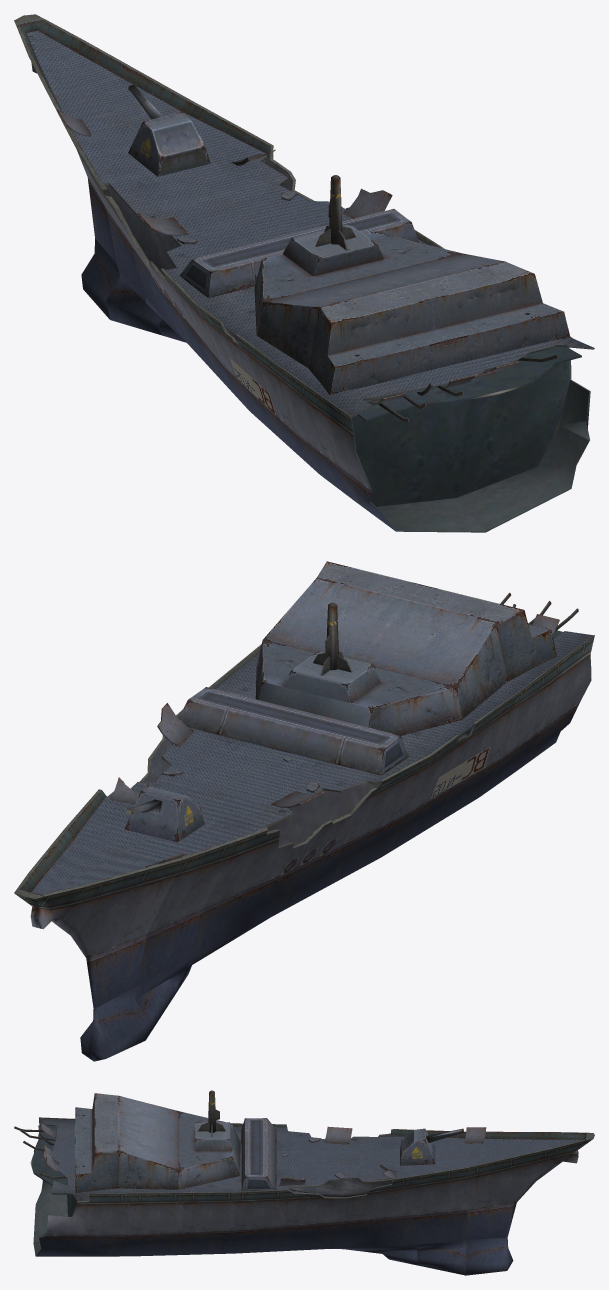
The model's file is Prop_DjShip003a.glb.
3 views of the same model, one above another, from view 1: azimuth 30°, elevation 25°; view 2: azimuth 150°, elevation 25°; view 3: azimuth 270°, elevation 25° (orthographic). The views are drawn at different scales.
Parts seen in each view (by area): view 1: dj_ship003a; view 2: dj_ship003a; view 3: dj_ship003a.
Boxes of the visible parts, box(x1,y1,x2,y2) form: dj_ship003a: box(14, 14, 594, 532); dj_ship003a: box(14, 561, 594, 1061); dj_ship003a: box(14, 1090, 594, 1275).
Bounding box in the file's own units: 27.55 × 31.19 × 89.75.
Materials: 1 (1 with a texture image).
